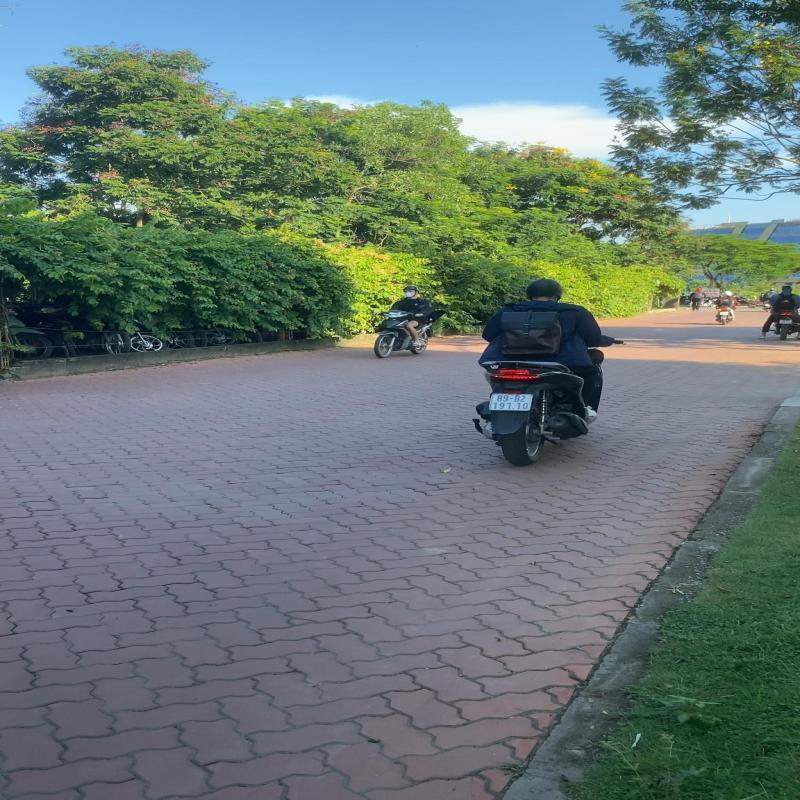helmet: (527, 277, 563, 300)
licenseplate: (488, 394, 533, 412)
motorcyclist: (476, 278, 614, 466)
